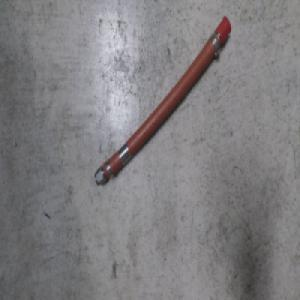Hose: (93, 12, 233, 186)
